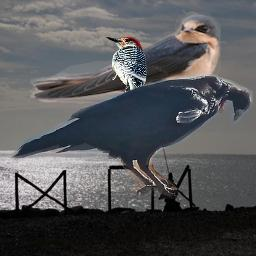Crow: (9, 73, 253, 199)
Swallow: (30, 11, 221, 116)
Woodpecker: (103, 33, 149, 101)
